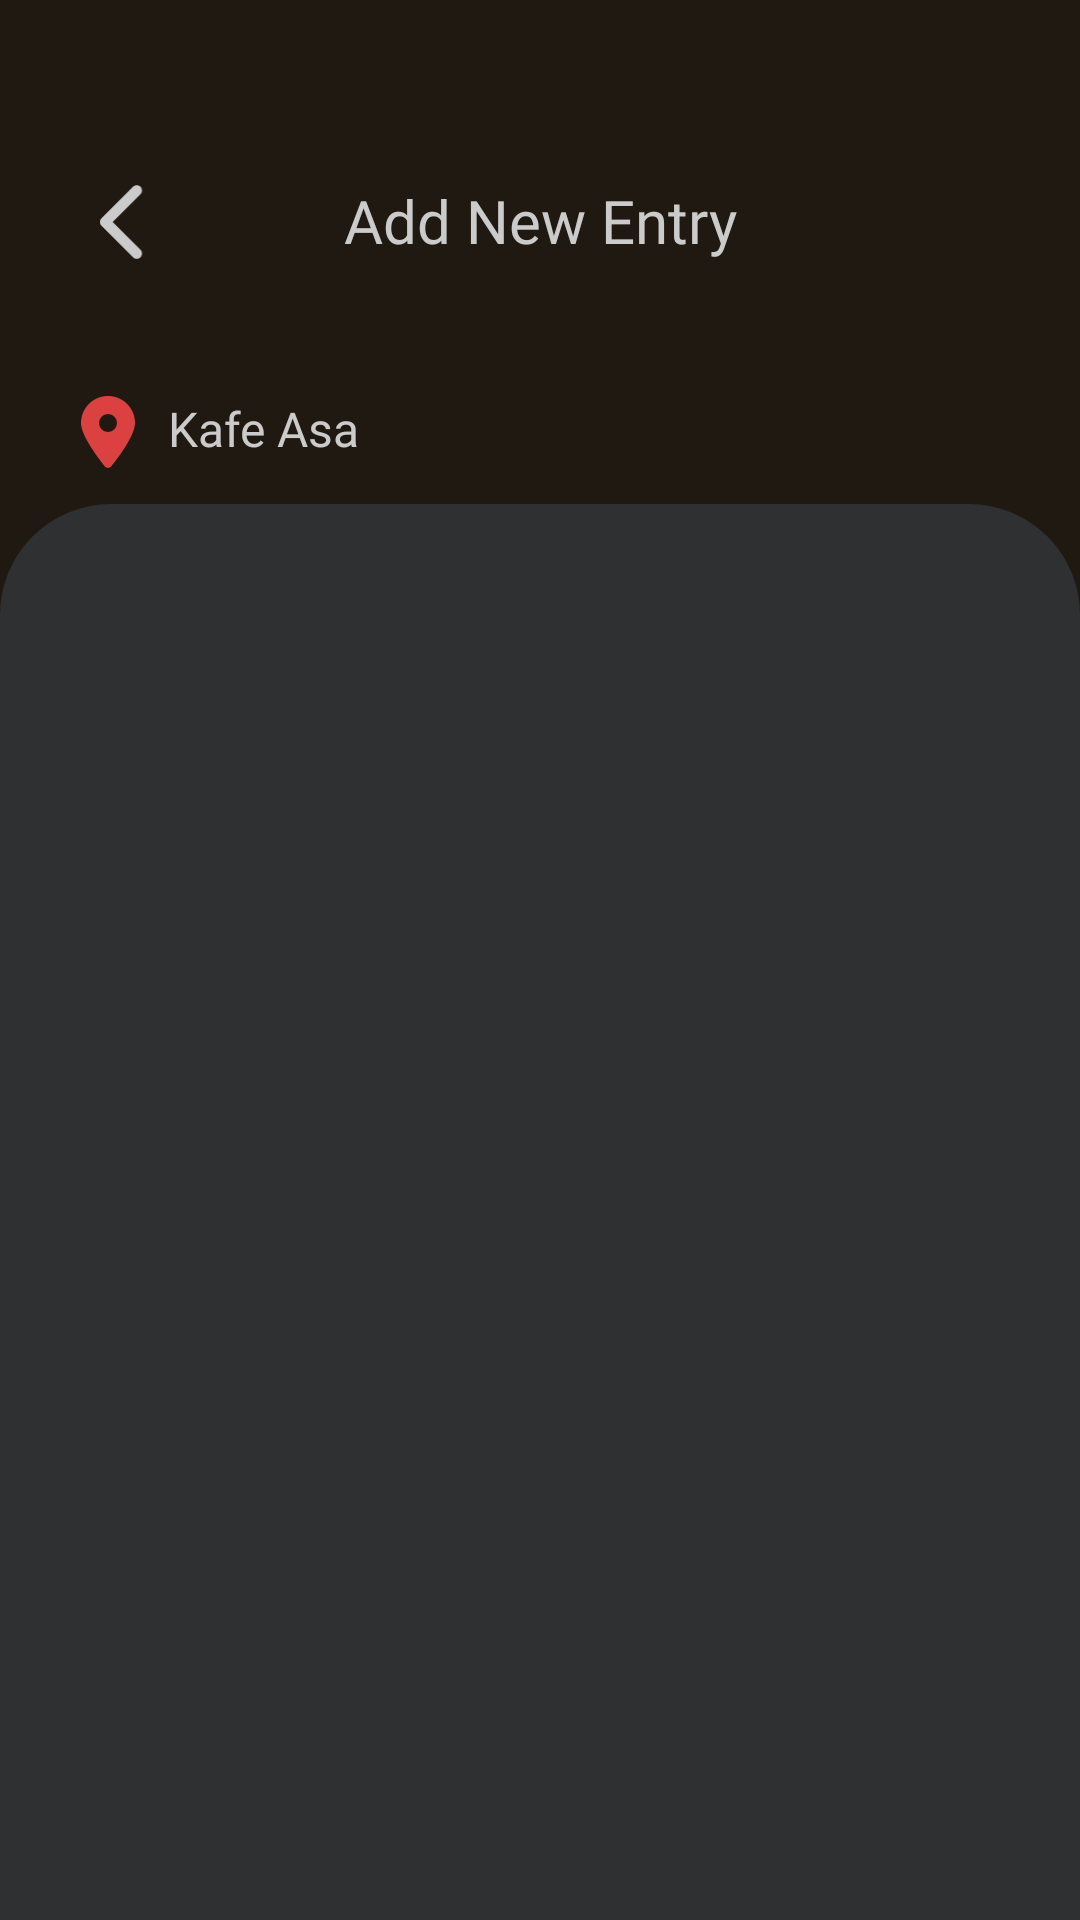

Where icons sit on this 1080px x 1920px app screen, as (x1, y1, x2, y2):
chevron left: (100, 185, 143, 259)
location dot: (81, 396, 135, 468)
